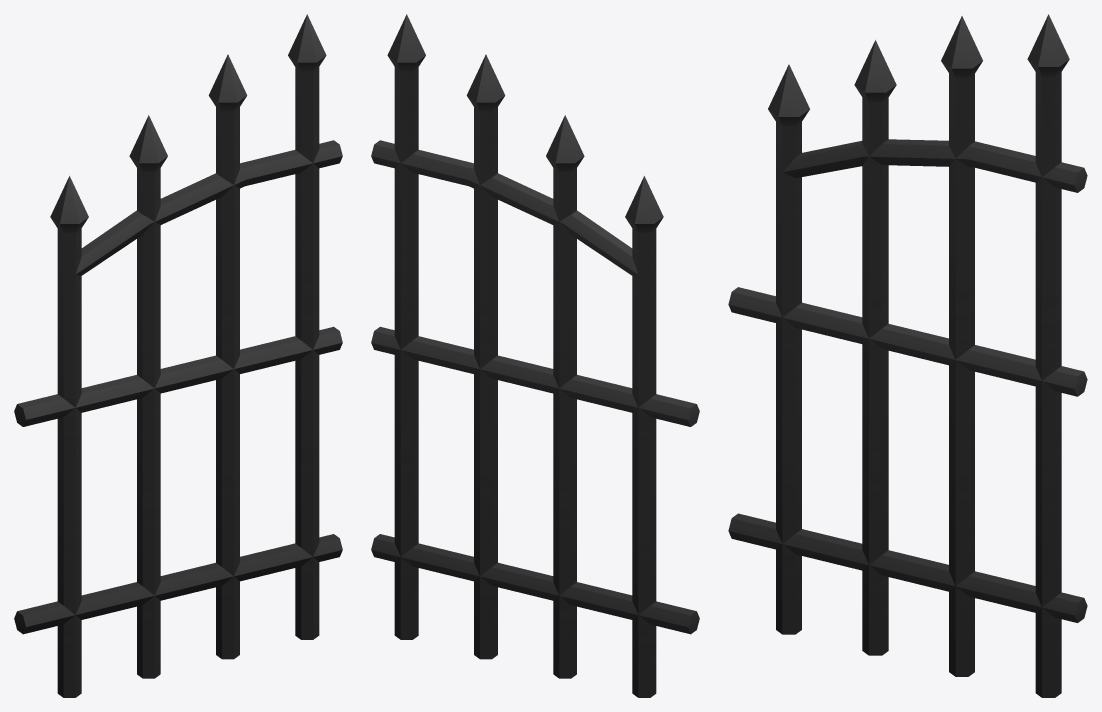
Rendered from fence_gate_right.002_lev1.glb.
The picture shows the model from 3 angles, left to right: view 1: azimuth 30°, elevation 25°; view 2: azimuth 150°, elevation 25°; view 3: azimuth 330°, elevation 25°; orthographic projection. The views are drawn at different scales.
Parts seen in each view (by area): view 1: fence_gate_right.002_lev1; view 2: fence_gate_right.002_lev1; view 3: fence_gate_right.002_lev1.
Part boxes in pixels (box(x1,y1,x2,y2)): fence_gate_right.002_lev1: box(14, 14, 342, 697); fence_gate_right.002_lev1: box(371, 14, 699, 697); fence_gate_right.002_lev1: box(728, 14, 1087, 697).
Bounding box in the file's own units: 0.0129 × 0.0242 × 0.00137.
1 material, 1 textured.
